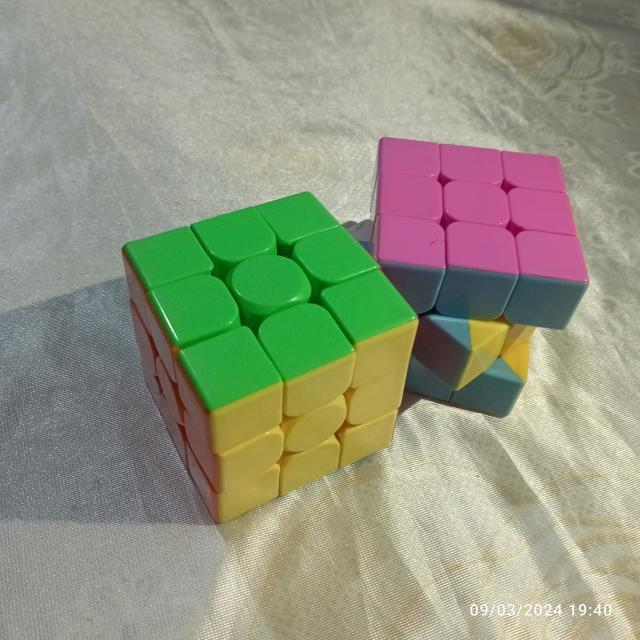Rub: (119, 182, 428, 528), (345, 129, 592, 422)
